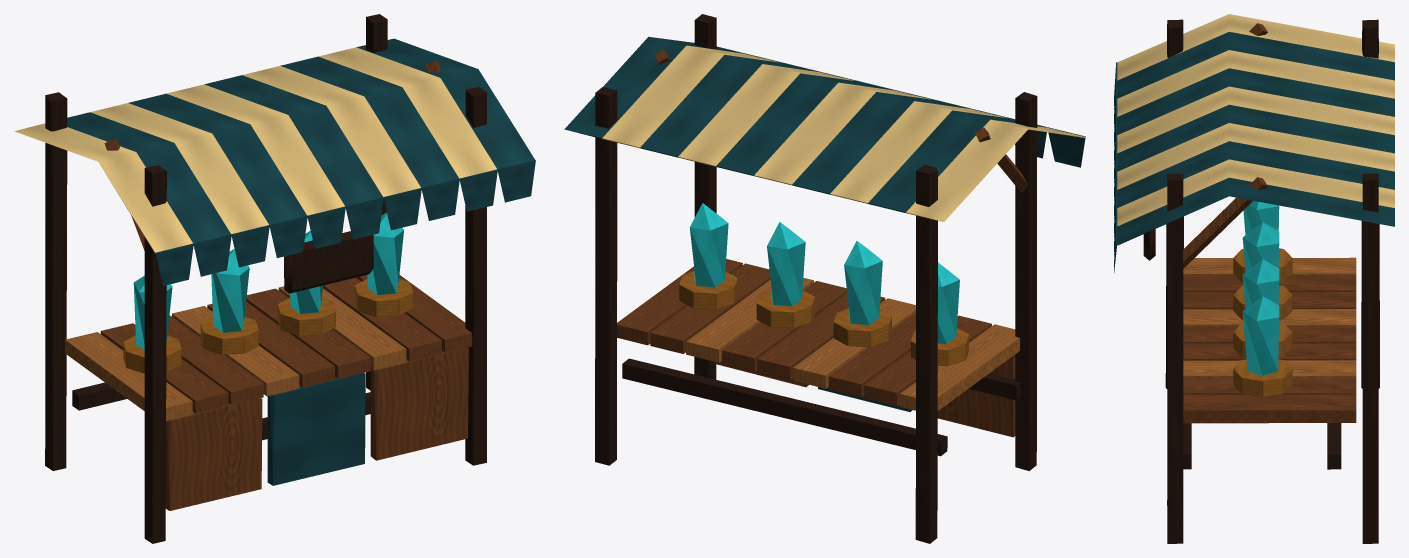
Rendered from Banca_de_reliquias_LOD1.fbx.
3 renders of one model, left to right at view 1: azimuth 30°, elevation 25°; view 2: azimuth 150°, elevation 25°; view 3: azimuth 270°, elevation 25°, orthographic.
Parts seen in each view (by area): view 1: Banca_de_reliquias_LOD1; view 2: Banca_de_reliquias_LOD1; view 3: Banca_de_reliquias_LOD1.
Boxes of the visible parts, x1=… form: Banca_de_reliquias_LOD1: x1=14, y1=14, x2=535, y2=543; Banca_de_reliquias_LOD1: x1=564, y1=14, x2=1085, y2=543; Banca_de_reliquias_LOD1: x1=1114, y1=14, x2=1394, y2=543.
Bounding box in the file's own units: 320 × 299 × 208.
Materials: 1 (1 with a texture image).
